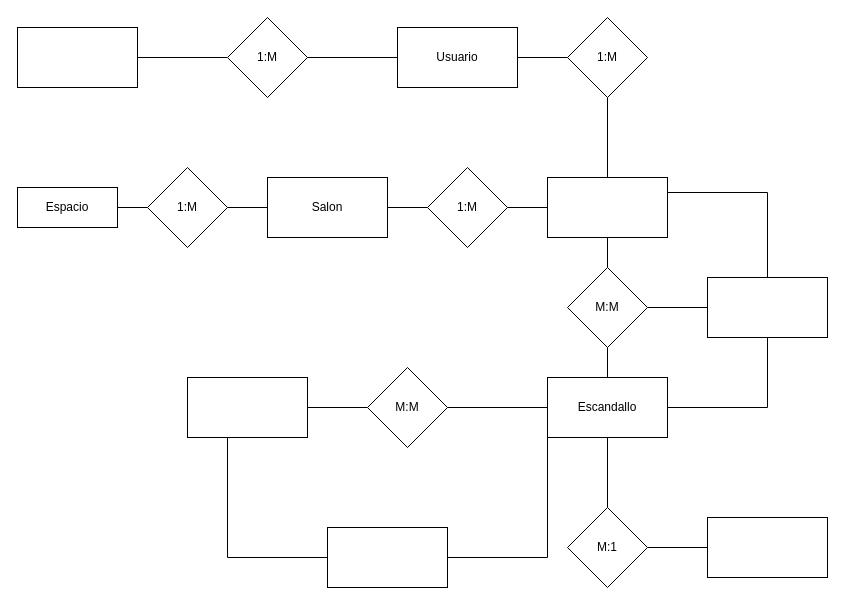
Some shapes in this 845 by 605 pixel diagram are drawn without their labels. The shapes that lost their labels are listed below. From the top down, each one's box as (x1, y1, x2, y2) in pixels, then its label:
(16, 26, 138, 88): TipoUsuario
(546, 176, 668, 238): Servicio
(706, 276, 828, 338): LineaServicio
(186, 376, 308, 438): Referencia
(326, 526, 448, 588): LineaEscandallo
(706, 516, 828, 578): TipoPlato
